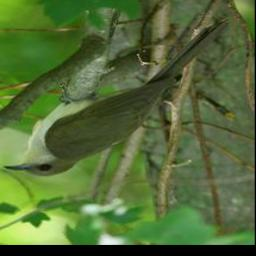Cuckoo: (2, 17, 231, 178)
